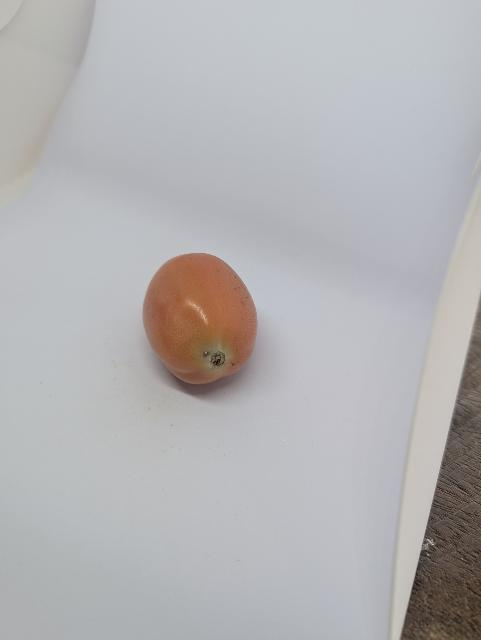turning: (137, 252, 271, 396)
